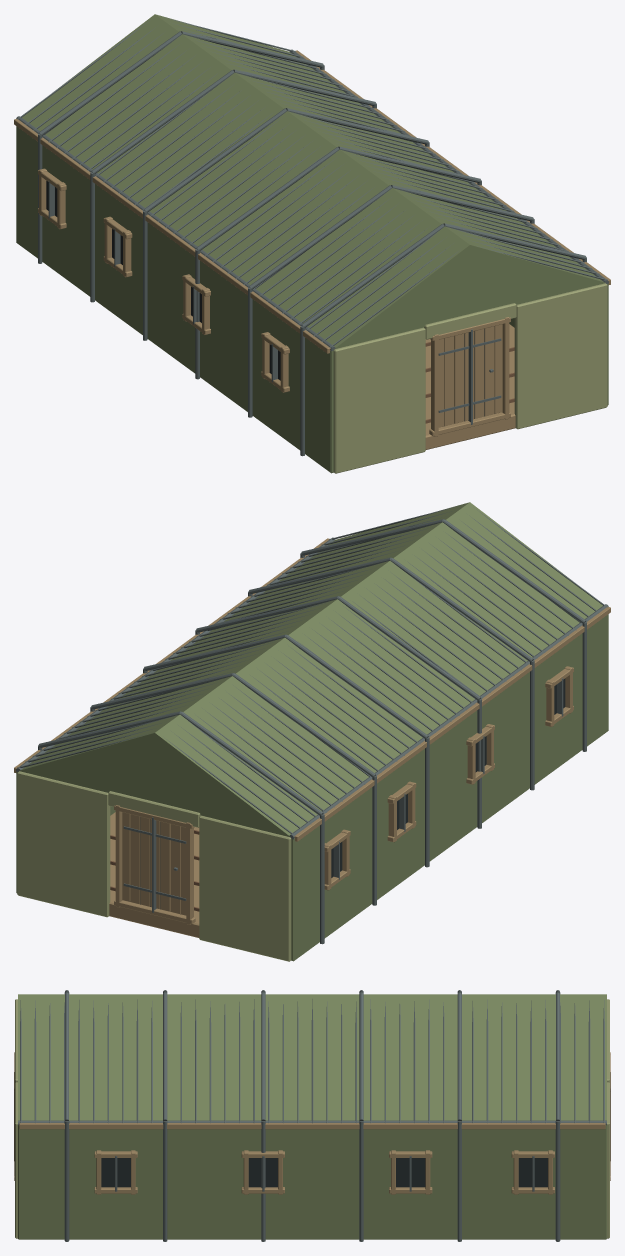
The model's file is barracks.glb.
3 views of the same model, one above another, from view 1: azimuth 30°, elevation 25°; view 2: azimuth 150°, elevation 25°; view 3: azimuth 270°, elevation 25° (orthographic). The views are drawn at different scales.
Visible parts, largest first — view 1: barracks; view 2: barracks; view 3: barracks.
Boxes of the visible parts, box(x1,y1,x2,y2) form: barracks: box(14, 14, 610, 473); barracks: box(14, 502, 610, 961); barracks: box(14, 990, 610, 1241).
Bounding box in the file's own units: 6.39 × 4.14 × 12.16.
